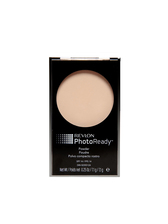other: (41, 51, 126, 180)
